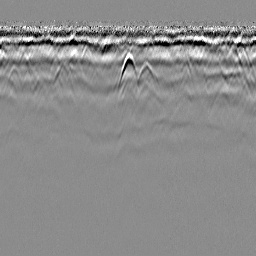cavity: (116, 50, 139, 90)
